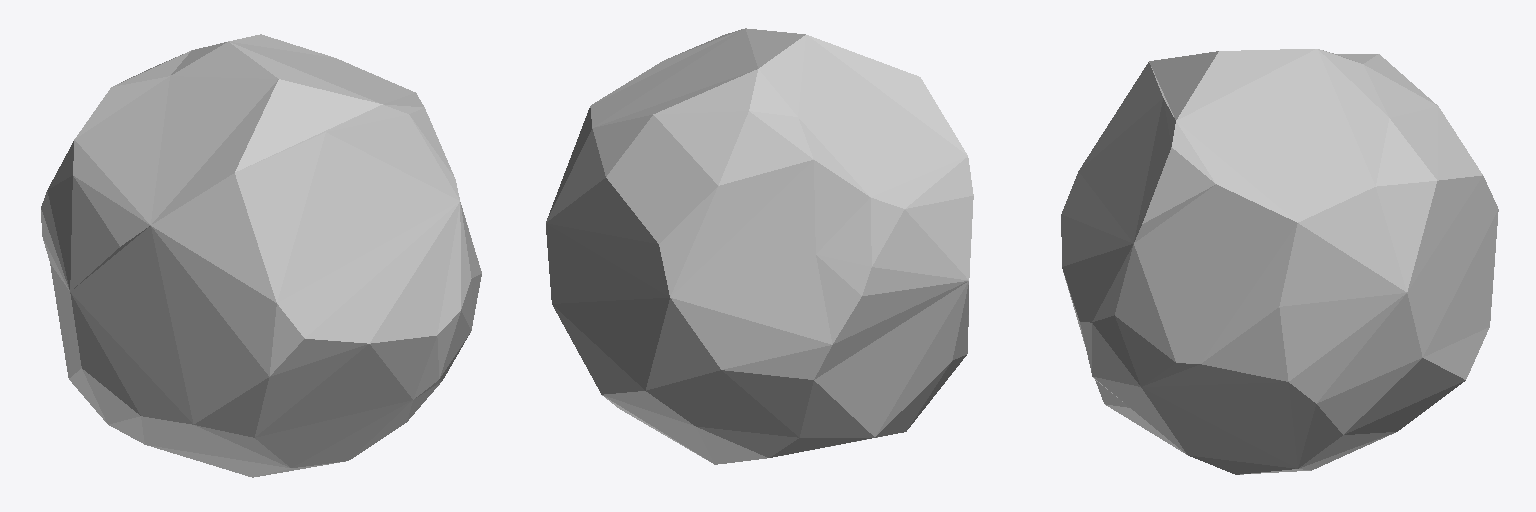
Rendered from Decimated LP sphere.OBJ.
3 renders of one model, left to right at view 1: azimuth 30°, elevation 25°; view 2: azimuth 150°, elevation 25°; view 3: azimuth 270°, elevation 25°, orthographic.
Visible parts, largest first — view 1: Group23516; view 2: Group23516; view 3: Group23516.
Boxes of the visible parts, x1,y1,x2,y2 form: Group23516: [41, 34, 481, 477]; Group23516: [546, 28, 973, 464]; Group23516: [1061, 49, 1498, 474].
Bounding box in the file's own units: 1.89 × 1.9 × 1.85.